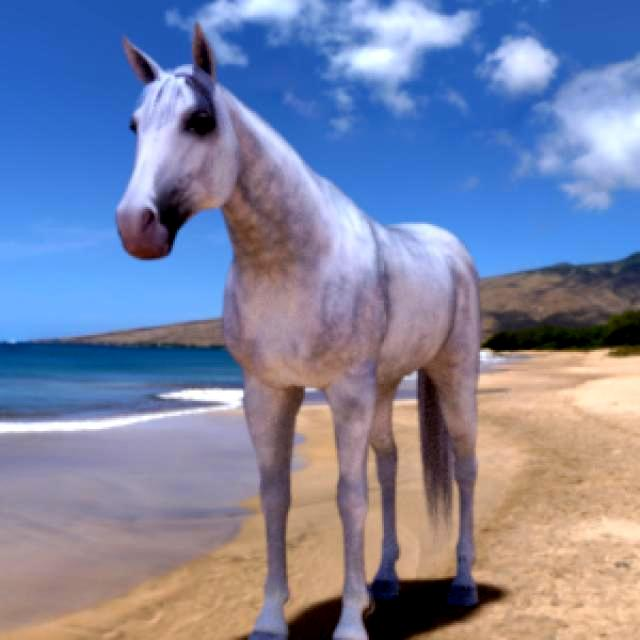horse: (116, 25, 480, 639)
